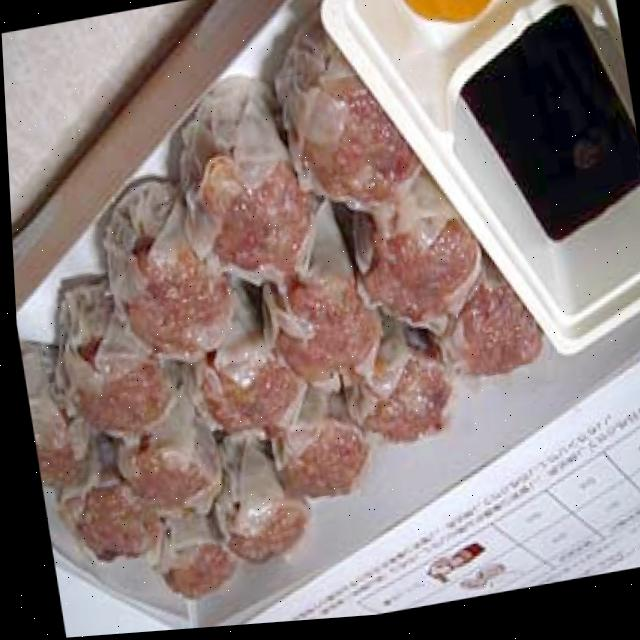带馅早点: (60, 143, 460, 593)
